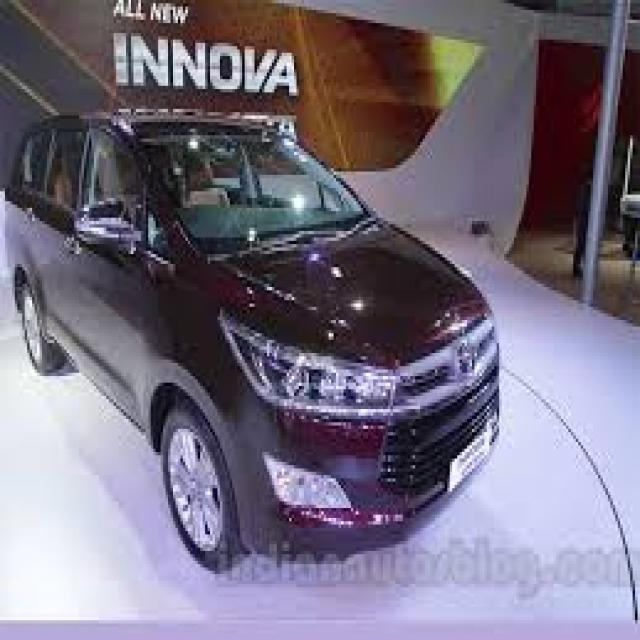light_vehicle: (5, 111, 501, 574)
